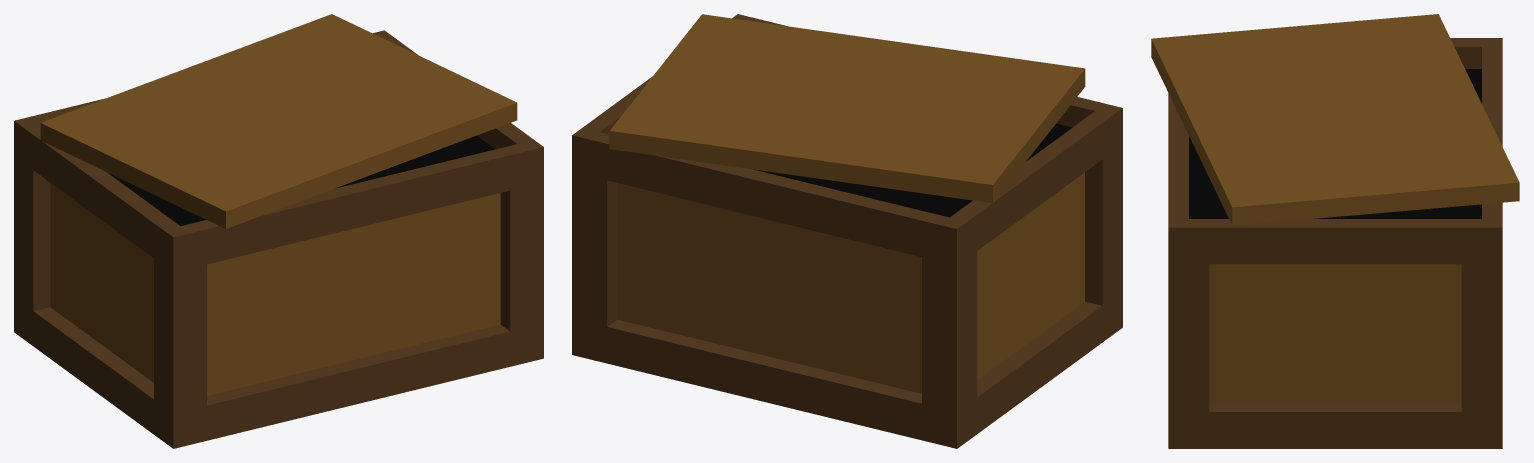
3 views of the same model, side by side, from view 1: azimuth 30°, elevation 25°; view 2: azimuth 150°, elevation 25°; view 3: azimuth 270°, elevation 25° (orthographic). The views are drawn at different scales.
Visible parts, largest first — view 1: Cube.002, Cube.001, Cube.015, Cube.014, Cube.007, Cube.010, Cube.006, Cube.008, Cube.009, Cube.005, Cube.003; view 2: Cube.002, Cube.001, Cube.012, Cube.013, Cube.006, Cube.016, Cube.007, Cube.008, Cube.009, Cube.005, Cube.003; view 3: Cube.002, Cube.001, Cube.004, Cube.003, Cube.016, Cube.010, Cube.005, Cube.014, Cube.013, Cube.006.
Part boxes in pixels (x1,y1,x2,y2): Cube.002: (40,14,517,228); Cube.001: (50,183,500,395); Cube.015: (207,324,510,440); Cube.014: (197,148,510,264); Cube.007: (154,219,206,448); Cube.010: (500,133,543,366); Cube.006: (14,112,53,345); Cube.008: (33,307,153,434); Cube.009: (33,133,170,257); Cube.005: (107,135,495,226); Cube.003: (399,44,524,149); Cube.002: (609,14,1085,203); Cube.001: (617,172,1084,393); Cube.012: (607,319,921,440); Cube.013: (607,142,931,256); Cube.006: (922,210,977,448); Cube.016: (572,120,617,363); Cube.007: (1077,99,1122,341); Cube.008: (977,301,1102,433); Cube.009: (960,118,1102,250); Cube.005: (753,123,1072,217); Cube.003: (592,76,652,129); Cube.002: (1151,14,1519,225); Cube.001: (1209,264,1461,403); Cube.004: (1209,403,1461,448); Cube.003: (1209,219,1461,264); Cube.016: (1461,210,1502,448); Cube.010: (1168,210,1209,448); Cube.005: (1189,69,1481,218); Cube.014: (1168,93,1188,210); Cube.013: (1482,55,1502,210); Cube.006: (1461,38,1502,68).
Bounding box in the file's own units: 112 × 66 × 90.46.
